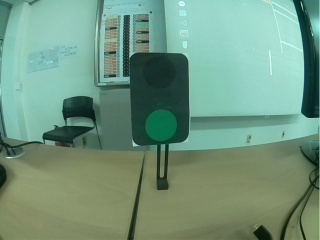green_light: (131, 54, 187, 144)
